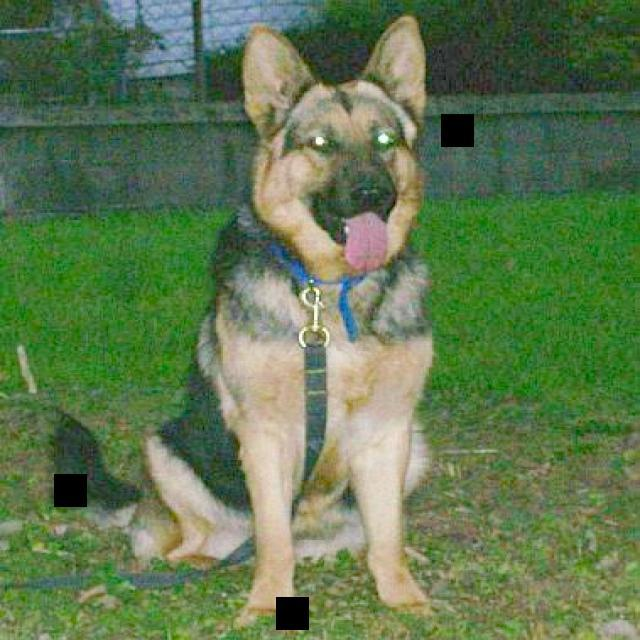adult_dog: (44, 7, 439, 629)
